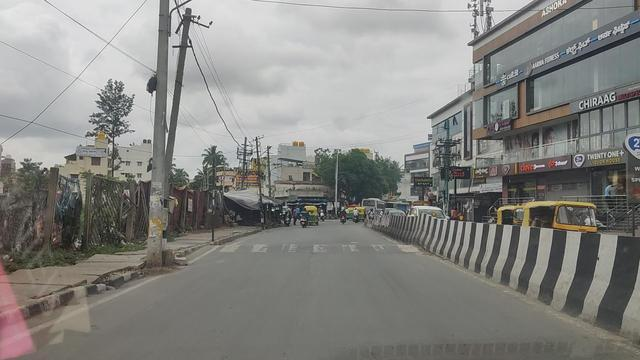SpeedBump: (221, 239, 420, 258)
